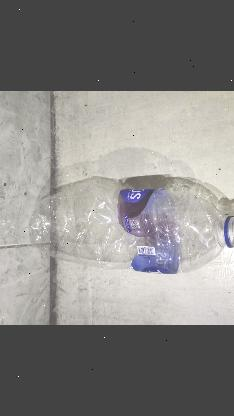Plastic Bottle: (116, 187, 234, 274), (120, 174, 234, 227)
